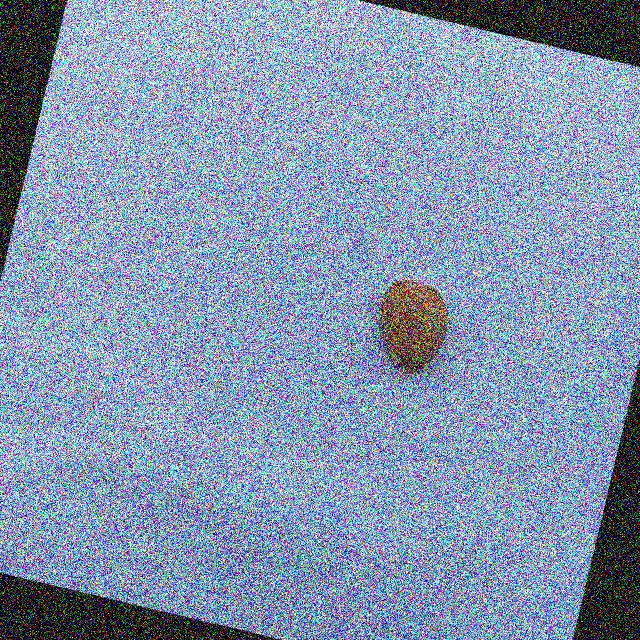grade2: (361, 270, 461, 382)
